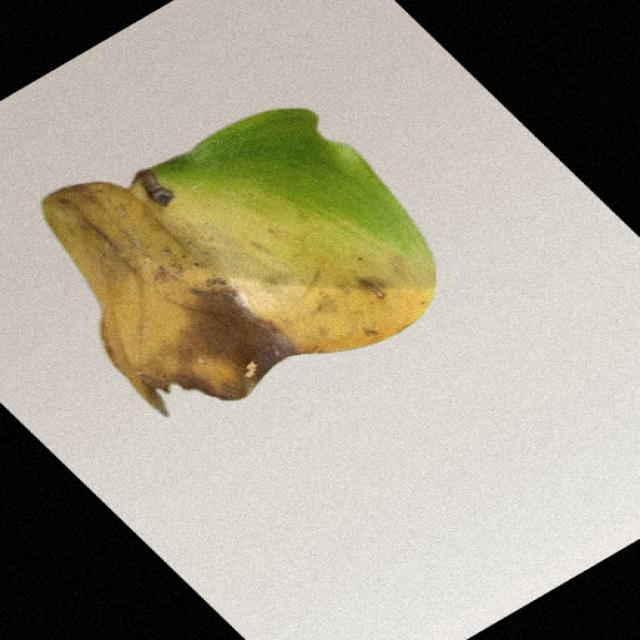daun berpenyakit kuning: (43, 109, 435, 415)
